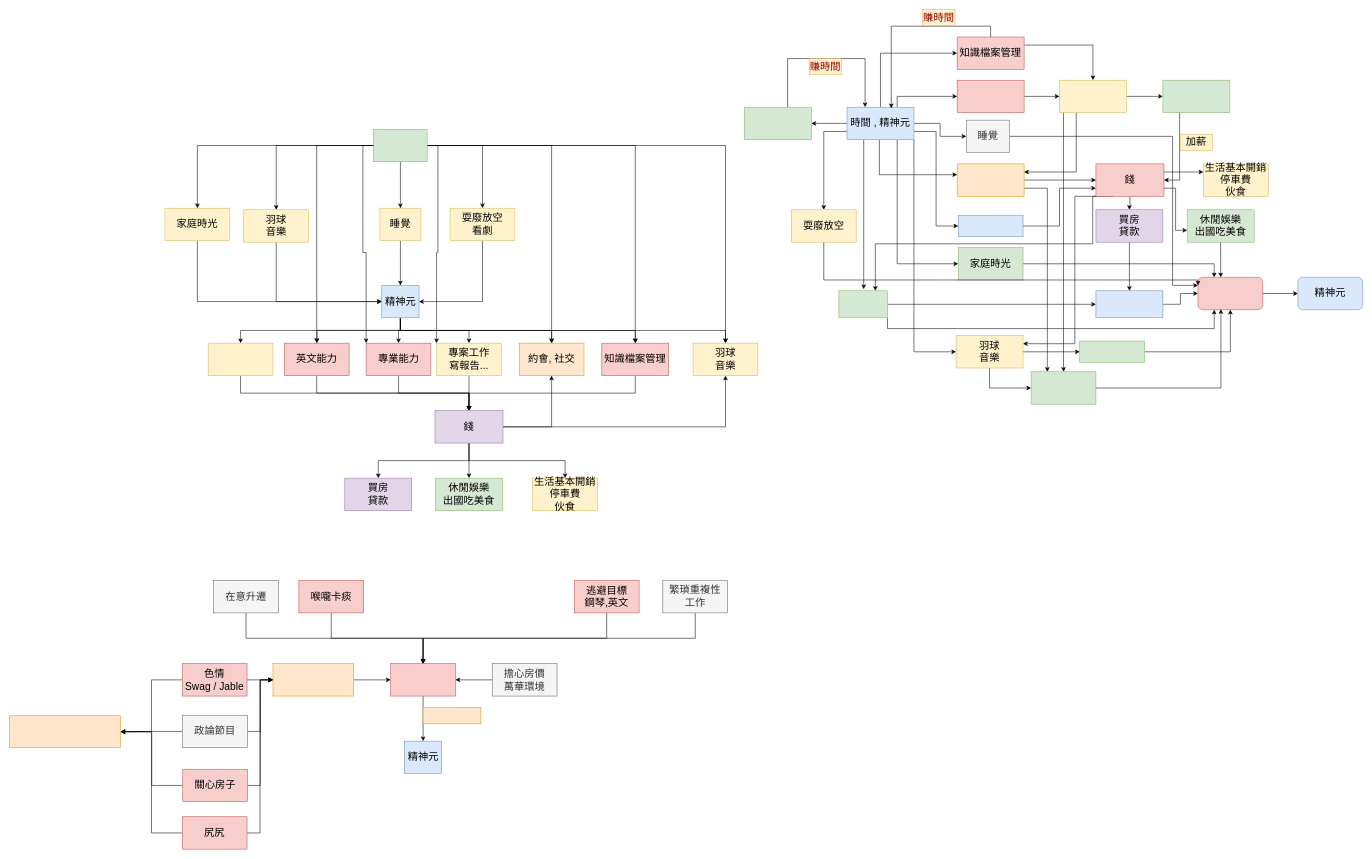
Some shapes in this 1372 by 859 pixel diagram are drawn without their labels. The centre of each missing label's shape, as x and y in pixels:
"上班工作" belongs at pixel 990 179.
"削弱神經元" belongs at pixel 452 715.
"太晚睡, 熬夜 睡眠不足" belongs at pixel 312 679.
"學英文 專業能力" belongs at pixel 990 96.
"工作核心能力提升" belongs at pixel 1092 96.
"幸福快樂" belongs at pixel 1230 293.
"情緒控管" belongs at pixel 240 359.
"成就感" belongs at pixel 1063 387.
"投資理財 繼承" belongs at pixel 990 226.
"換工作 穩定工作 升遷" belongs at pixel 1196 96.
"時間" belongs at pixel 400 145.
"白天做, 雖然也不好, 但不會影響神經元太多" belongs at pixel 65 731.
"約會" belongs at pixel 862 304.
"結婚生子" belongs at pixel 1129 304.
"自動化程式 節省時間" belongs at pixel 777 123.
"負向精神元" belongs at pixel 422 679.
"身心健康" belongs at pixel 1112 351.
